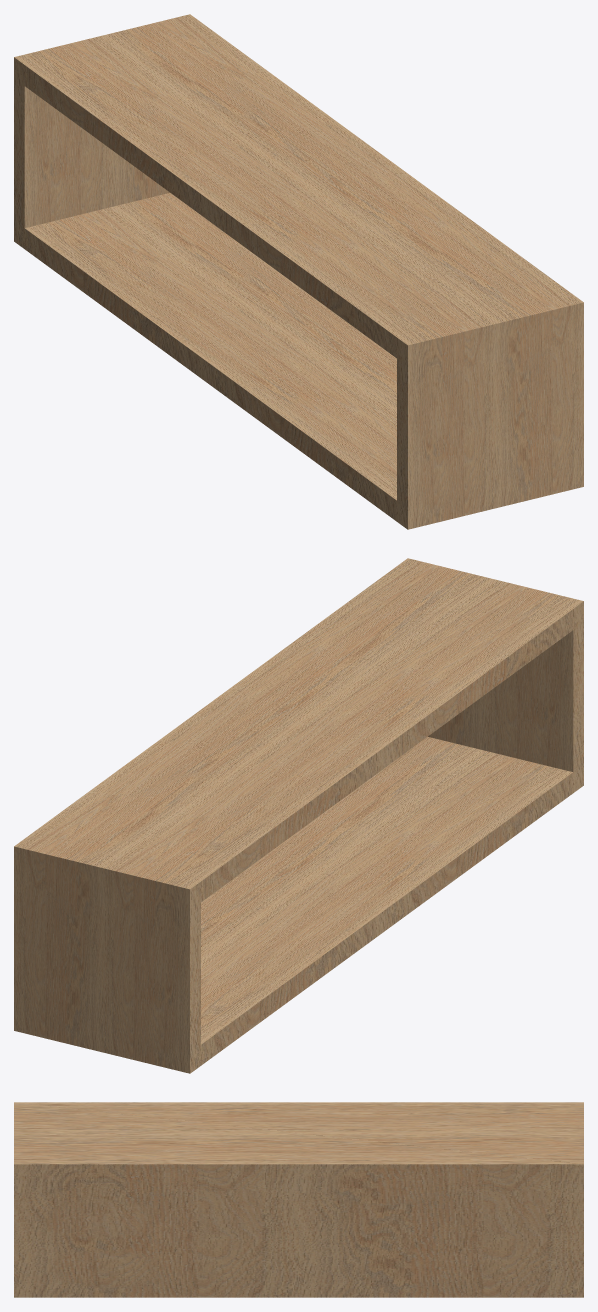
Rendered from TvMeubelBasic.fbx.
The picture shows the model from 3 angles, top to bottom: view 1: azimuth 30°, elevation 25°; view 2: azimuth 150°, elevation 25°; view 3: azimuth 270°, elevation 25°; orthographic projection. The views are drawn at different scales.
Parts seen in each view (by area): view 1: Cube.002; view 2: Cube.002; view 3: Cube.002.
Boxes of the visible parts, box(x1,y1,x2,y2) form: Cube.002: box(14, 14, 583, 529); Cube.002: box(14, 558, 583, 1073); Cube.002: box(14, 1102, 583, 1297).
Bounding box in the file's own units: 200 × 200 × 774.
